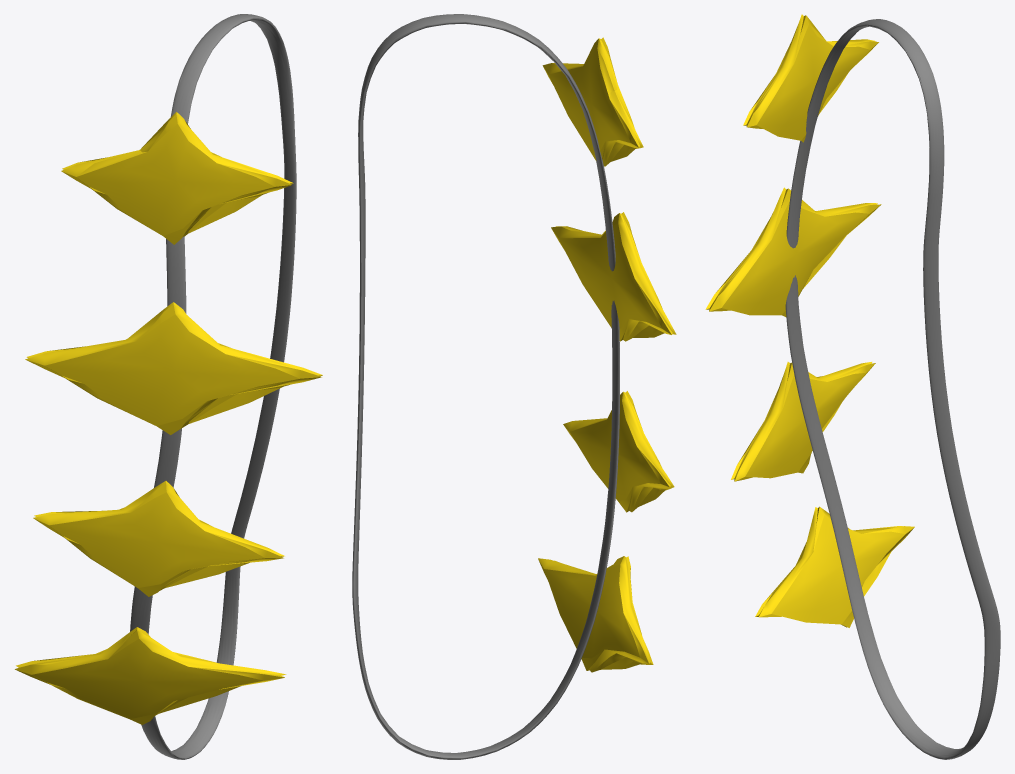
The picture shows the model from 3 angles, left to right: view 1: azimuth 30°, elevation 25°; view 2: azimuth 150°, elevation 25°; view 3: azimuth 270°, elevation 25°; orthographic projection.
Visible parts, largest first — view 1: 562; view 2: 562; view 3: 562.
Boxes of the visible parts, bbox=[...] form: 562: bbox=[15, 14, 322, 759]; 562: bbox=[352, 14, 676, 759]; 562: bbox=[705, 14, 1000, 759].
Size of the model in its own units: 13.94 by 12.2 by 33.28.
